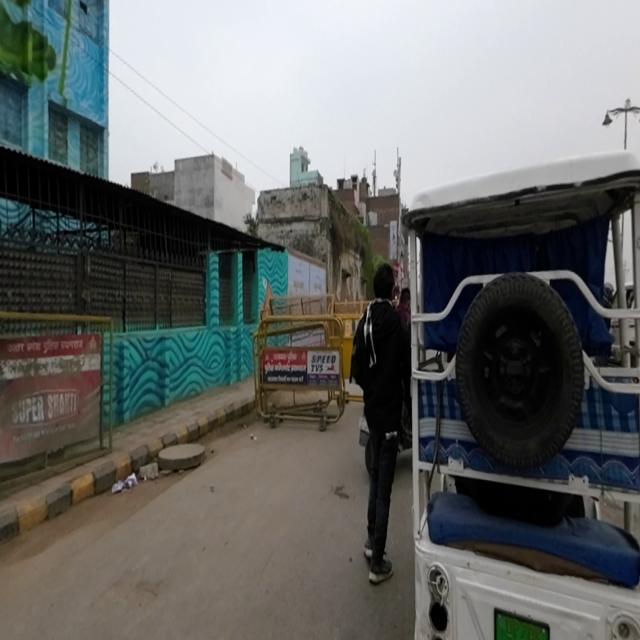Garbage: (107, 472, 142, 502)
